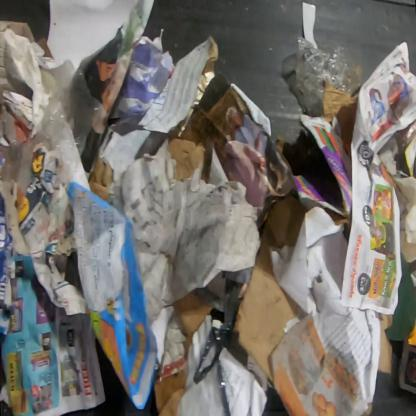cardboard: (66, 179, 161, 412), (232, 194, 310, 384), (154, 292, 212, 416), (292, 113, 352, 218), (324, 82, 357, 159), (168, 122, 205, 182), (396, 114, 415, 182), (379, 313, 393, 374)
rigid_plastic: (192, 319, 241, 415)
soft_plastic: (40, 60, 104, 178), (295, 36, 362, 118), (1, 141, 34, 194)
